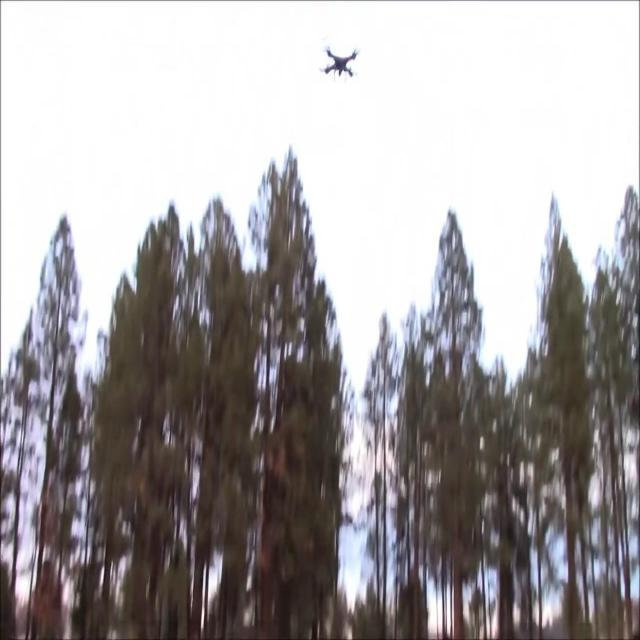drone: (322, 42, 358, 84)
